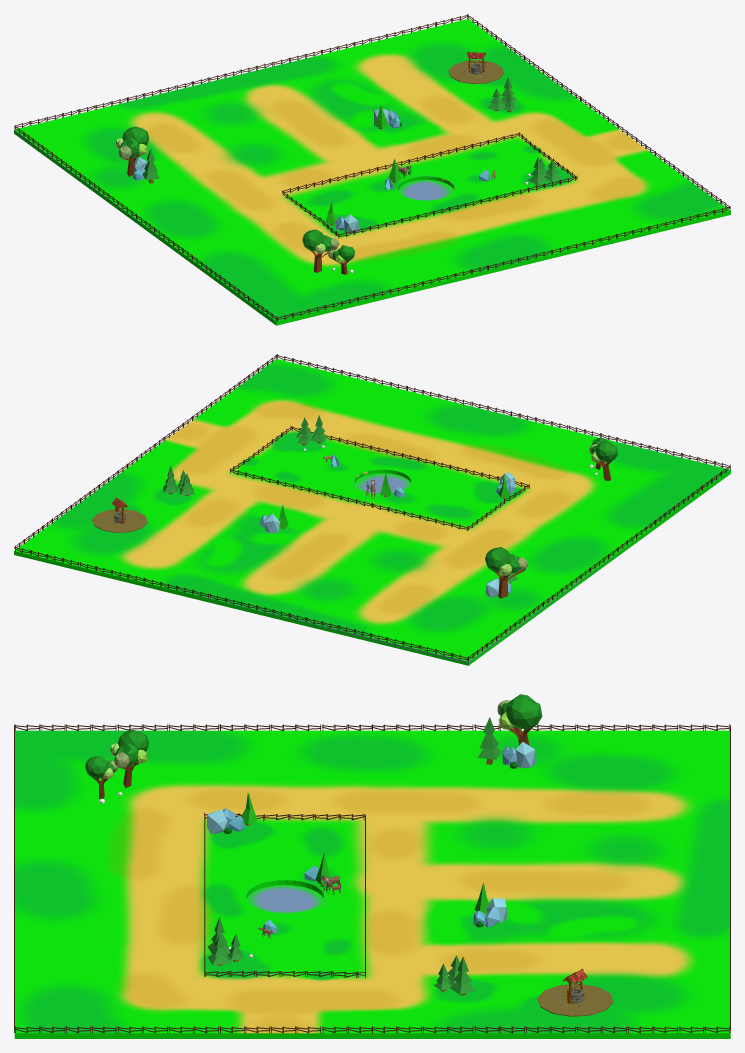
Rendered from groundFin.glb.
3 renders of one model, top to bottom at view 1: azimuth 30°, elevation 25°; view 2: azimuth 150°, elevation 25°; view 3: azimuth 270°, elevation 25°, orthographic. The views are drawn at different scales.
Visible parts, largest first — view 1: Cube, fence1.003, fence1.002, Cylinder.003, fence1.001, fence1, Icosphere.030, fence1.005, Icosphere.020, fence1.004; view 2: Cube, fence1.003, fence1.002, Cylinder.003, Icosphere.030, fence1.001, fence1, fence1.004, fence1.005, Icosphere.020; view 3: Cube, fence1, fence1.001, Cylinder.003, Icosphere.030, Icosphere.020, Icosphere.018, Cube.020, Cube.022.
Part boxes in pixels (x1=…): Cube: x1=14, y1=19, x2=730, y2=325; fence1.003: x1=276, y1=206, x2=730, y2=321; fence1.002: x1=14, y1=14, x2=468, y2=127; Cylinder.003: x1=448, y1=51, x2=504, y2=84; fence1.001: x1=14, y1=125, x2=276, y2=321; fence1: x1=468, y1=14, x2=730, y2=207; Icosphere.030: x1=116, y1=126, x2=149, y2=176; fence1.005: x1=338, y1=176, x2=576, y2=238; Icosphere.020: x1=302, y1=229, x2=339, y2=272; fence1.004: x1=282, y1=132, x2=519, y2=192; Cube: x1=14, y1=359, x2=730, y2=665; fence1.003: x1=277, y1=354, x2=730, y2=467; fence1.002: x1=14, y1=546, x2=468, y2=661; Cylinder.003: x1=92, y1=497, x2=147, y2=532; Icosphere.030: x1=485, y1=547, x2=528, y2=598; fence1.001: x1=468, y1=465, x2=730, y2=661; fence1: x1=15, y1=354, x2=276, y2=547; fence1.004: x1=229, y1=468, x2=467, y2=530; fence1.005: x1=291, y1=426, x2=529, y2=488; Icosphere.020: x1=589, y1=440, x2=617, y2=480; Cube: x1=14, y1=730, x2=730, y2=1038; fence1: x1=14, y1=1026, x2=729, y2=1033; fence1.001: x1=14, y1=724, x2=729, y2=730; Cylinder.003: x1=537, y1=968, x2=613, y2=1016; Icosphere.030: x1=497, y1=694, x2=542, y2=745; Icosphere.020: x1=110, y1=730, x2=148, y2=787; Icosphere.018: x1=85, y1=756, x2=117, y2=798; Cube.020: x1=204, y1=970, x2=366, y2=977; Cube.022: x1=477, y1=717, x2=501, y2=764.
Bounding box in the file's own units: 120 × 13.5 × 120.
Materials: 68 (1 with a texture image).
